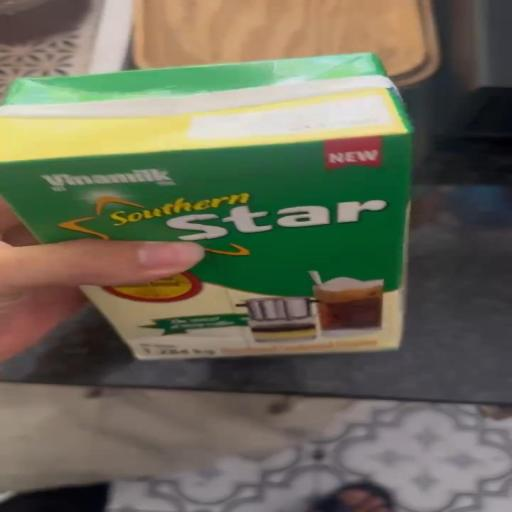ly_giay: (0, 54, 412, 359)
